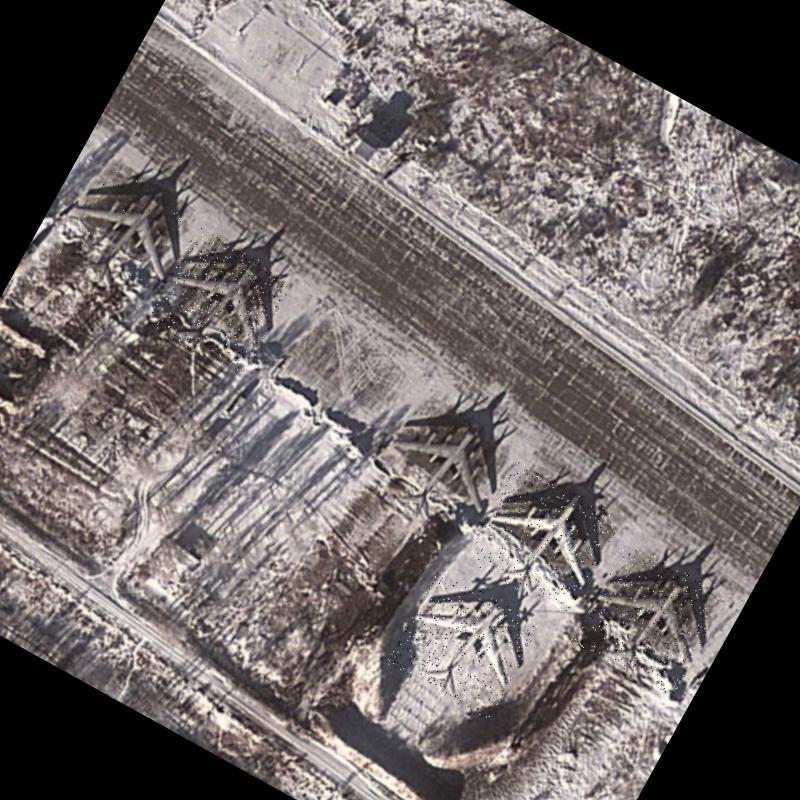A17: (568, 539, 728, 698), (462, 460, 622, 618), (45, 156, 202, 310), (364, 388, 518, 543), (385, 567, 541, 720), (143, 226, 296, 378)
